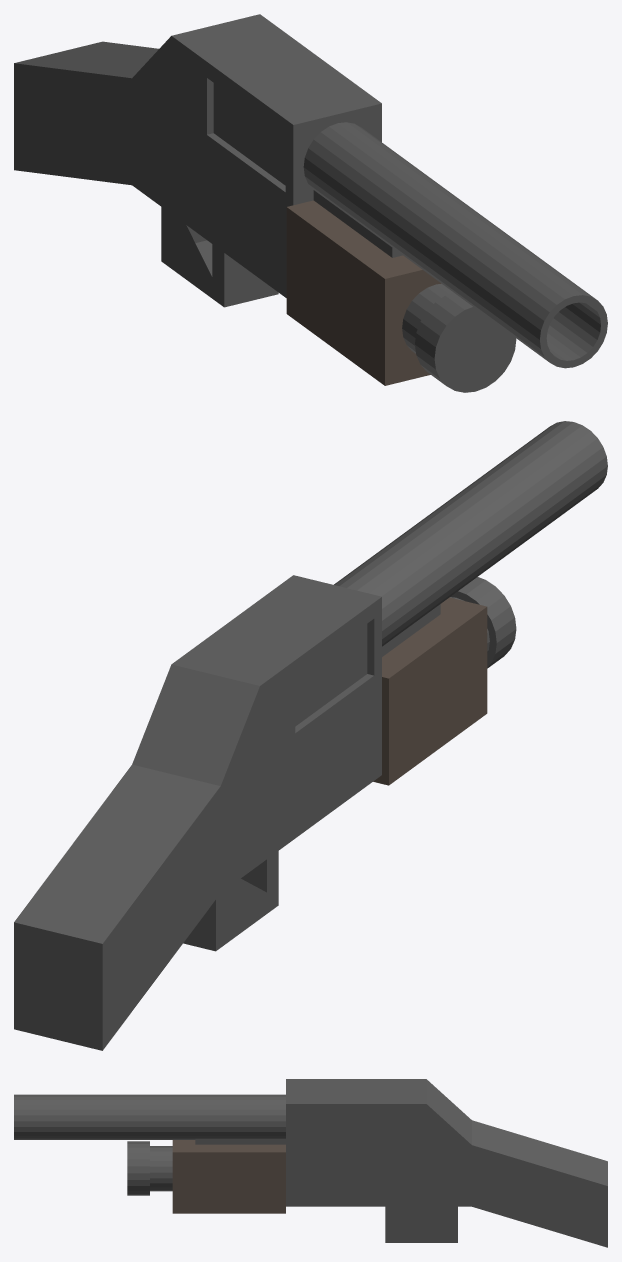
The model's file is shotgunshort.glb.
3 renders of one model, top to bottom at view 1: azimuth 30°, elevation 25°; view 2: azimuth 150°, elevation 25°; view 3: azimuth 270°, elevation 25°, orthographic. The views are drawn at different scales.
Parts seen in each view (by area): view 1: Mesh1 Group2 Group1 Model, Mesh2 Group3 Group1 Model; view 2: Mesh1 Group2 Group1 Model, Mesh2 Group3 Group1 Model; view 3: Mesh1 Group2 Group1 Model, Mesh2 Group3 Group1 Model.
Part boxes in pixels (<box>): Mesh1 Group2 Group1 Model: <box>14,14,607,392</box>; Mesh2 Group3 Group1 Model: <box>286,200,441,385</box>; Mesh1 Group2 Group1 Model: <box>14,421,607,1050</box>; Mesh2 Group3 Group1 Model: <box>373,597,487,785</box>; Mesh1 Group2 Group1 Model: <box>14,1079,607,1247</box>; Mesh2 Group3 Group1 Model: <box>172,1140,285,1213</box>.
Bounding box in the file's own units: 0.009 × 0.021 × 0.0786.
